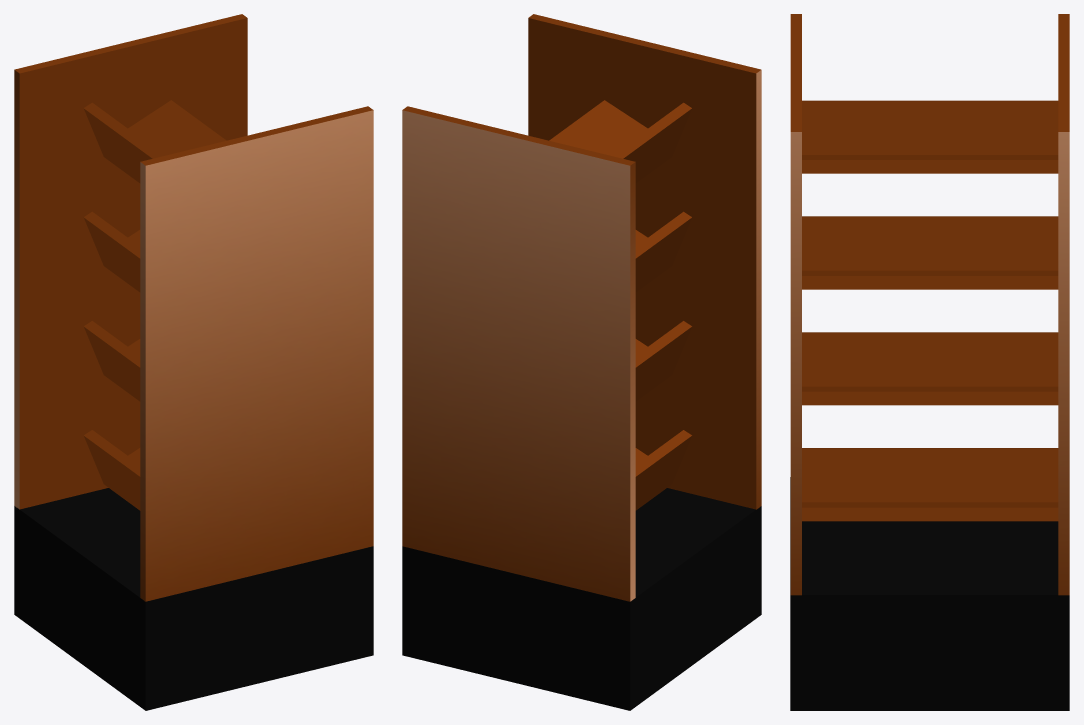
The model's file is Floor_Shelf_A.obj.
The picture shows the model from 3 angles, left to right: view 1: azimuth 30°, elevation 25°; view 2: azimuth 150°, elevation 25°; view 3: azimuth 270°, elevation 25°; orthographic projection. The views are drawn at different scales.
Visible parts, largest first — view 1: Floor_Shelf_A_Cube.009; view 2: Floor_Shelf_A_Cube.009; view 3: Floor_Shelf_A_Cube.009.
Boxes of the visible parts, <box> form: Floor_Shelf_A_Cube.009: <box>14,14,373,710</box>; Floor_Shelf_A_Cube.009: <box>402,14,761,710</box>; Floor_Shelf_A_Cube.009: <box>790,14,1069,710</box>.
Size of the model in its own units: 2 by 4.57 by 2.
